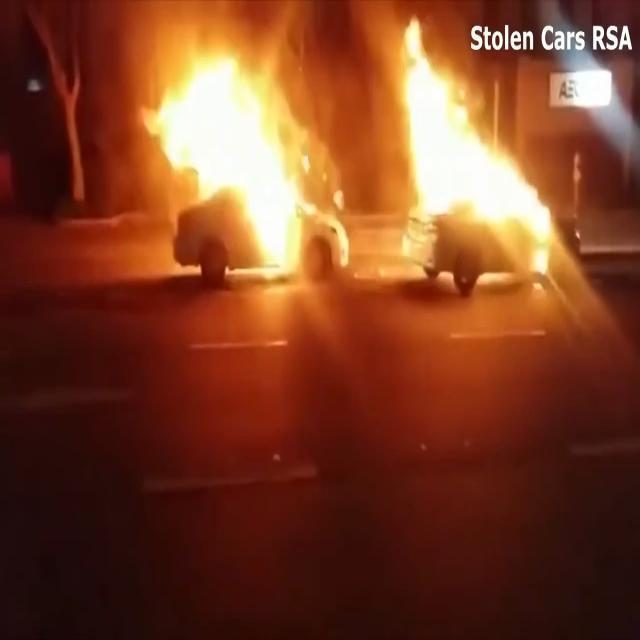fire: (400, 22, 560, 244), (146, 41, 302, 258)
